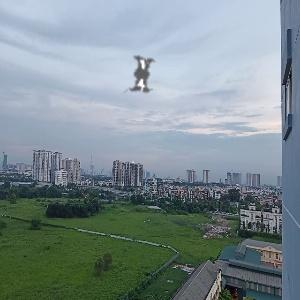drone: (95, 24, 194, 123)
